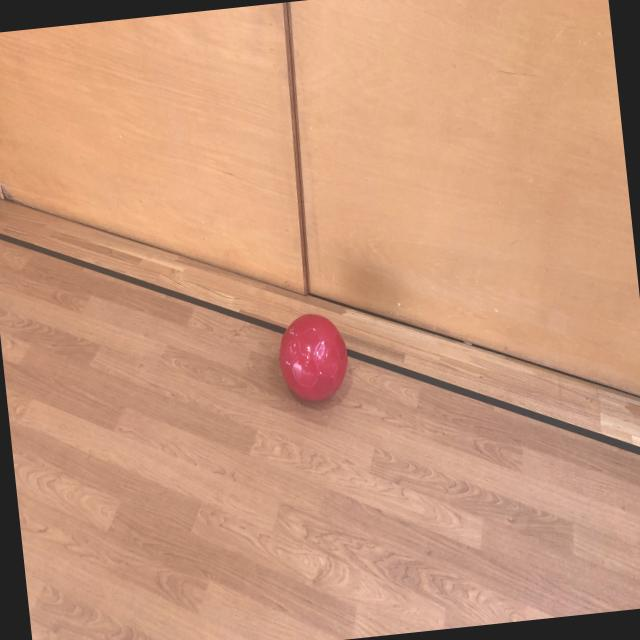red_ball: (276, 309, 352, 406)
